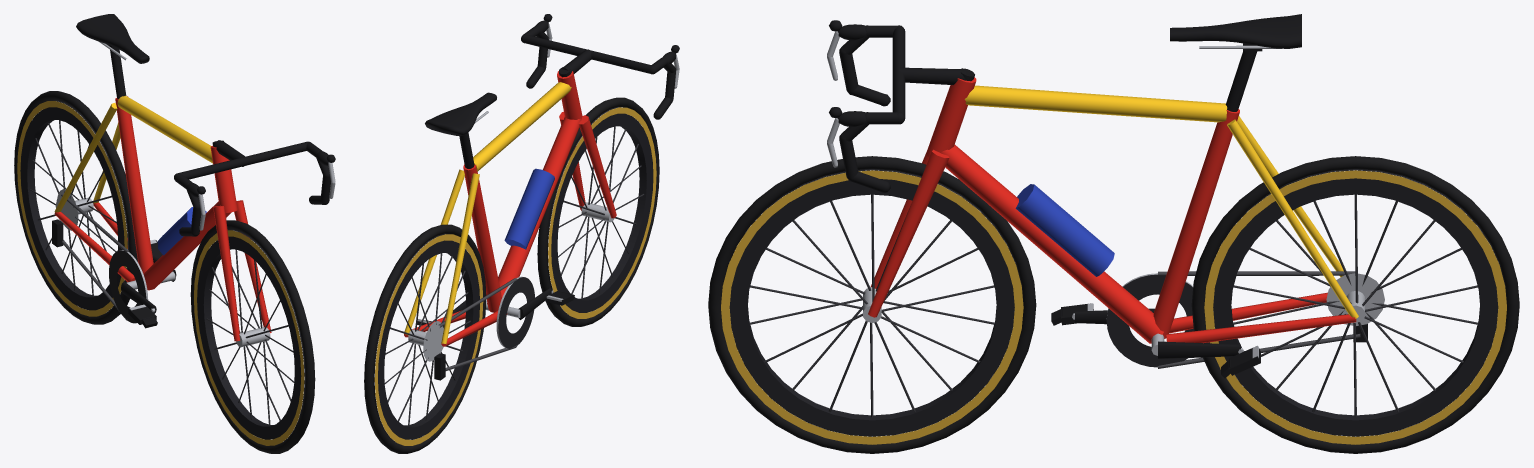
The model's file is bike_reference.glb.
3 renders of one model, left to right at view 1: azimuth 30°, elevation 25°; view 2: azimuth 150°, elevation 25°; view 3: azimuth 270°, elevation 25°, orthographic. The views are drawn at different scales.
Parts seen in each view (by area): view 1: bike_frame, wheel_front, wheel_rear, crankset, saddle; view 2: bike_frame, wheel_rear, wheel_front, crankset, saddle; view 3: bike_frame, wheel_rear, wheel_front, crankset, saddle.
Part boxes in pixels (bbox=[...]): bike_frame: bbox=[52, 41, 335, 341]; wheel_front: bbox=[190, 220, 315, 453]; wheel_rear: bbox=[14, 91, 137, 324]; crankset: bbox=[109, 239, 176, 328]; saddle: bbox=[76, 14, 149, 63]; bike_frame: bbox=[404, 14, 679, 380]; wheel_rear: bbox=[364, 224, 486, 453]; wheel_front: bbox=[537, 97, 659, 326]; crankset: bbox=[417, 276, 574, 348]; saddle: bbox=[425, 92, 496, 135]; bike_frame: bbox=[827, 20, 1367, 368]; wheel_rear: bbox=[1191, 156, 1519, 453]; wheel_front: bbox=[708, 156, 1036, 453]; crankset: bbox=[1051, 273, 1260, 378]; saddle: bbox=[1170, 14, 1301, 48].
Size of the model in its own units: 0.4504 by 0.972 by 1.66.
